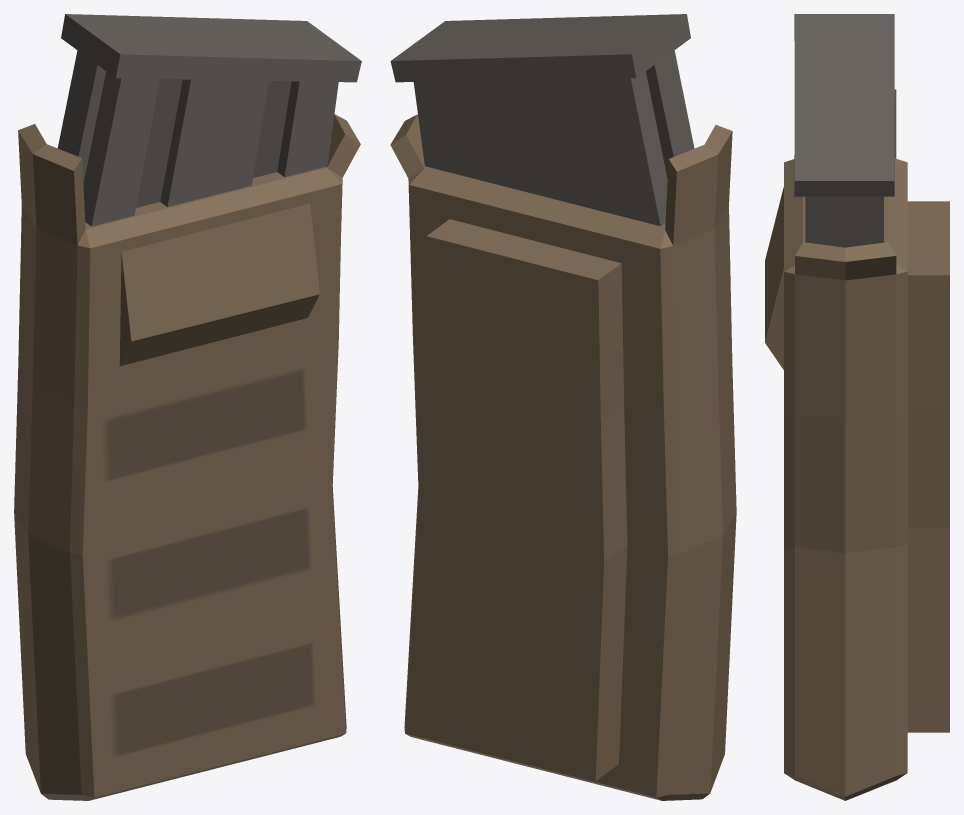
The model's file is Magazine_Pouch_03_SM.FBX.
3 renders of one model, left to right at view 1: azimuth 30°, elevation 25°; view 2: azimuth 150°, elevation 25°; view 3: azimuth 270°, elevation 25°, orthographic. The views are drawn at different scales.
Parts seen in each view (by area): view 1: Magazine_Pouch_03_SM; view 2: Magazine_Pouch_03_SM; view 3: Magazine_Pouch_03_SM.
Part boxes in pixels (bbox=[...]): Magazine_Pouch_03_SM: bbox=[14, 14, 361, 800]; Magazine_Pouch_03_SM: bbox=[390, 14, 736, 800]; Magazine_Pouch_03_SM: bbox=[765, 14, 949, 800].
Size of what is drawn, in the model's own units: 9.24 by 5.11 by 20.9.
